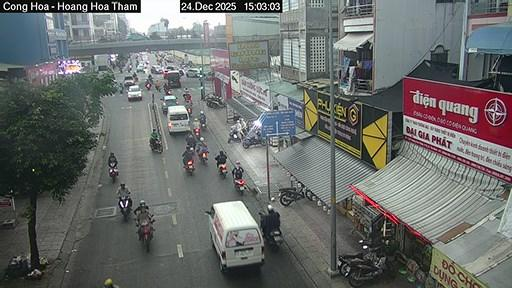motorbike: (339, 241, 394, 286), (345, 252, 394, 286), (336, 239, 377, 274), (278, 187, 312, 206), (137, 220, 153, 251), (242, 131, 265, 148), (265, 229, 282, 250), (118, 196, 130, 220), (204, 95, 223, 107), (227, 130, 240, 143), (233, 179, 245, 193), (108, 166, 118, 181), (217, 163, 227, 178), (185, 158, 194, 174), (198, 149, 208, 163), (150, 140, 160, 153), (192, 126, 199, 138), (199, 117, 204, 130), (163, 88, 172, 94), (144, 81, 150, 89), (186, 107, 191, 116), (259, 212, 262, 225), (338, 261, 339, 265)
